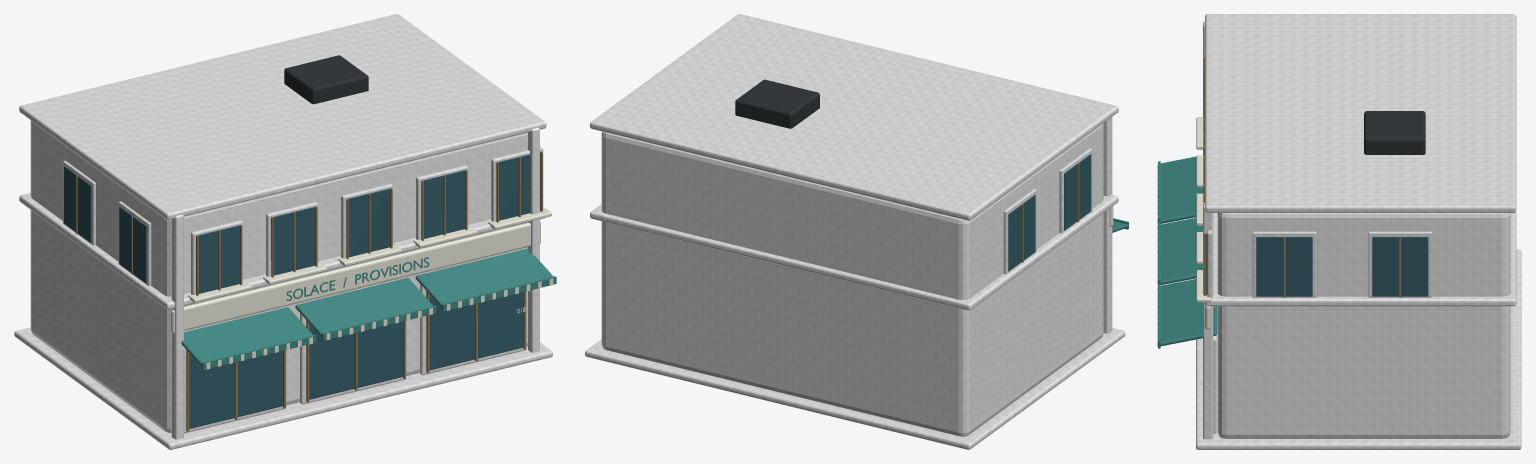
The model's file is storefront_lod1.glb.
3 renders of one model, left to right at view 1: azimuth 30°, elevation 25°; view 2: azimuth 150°, elevation 25°; view 3: azimuth 270°, elevation 25°, orthographic. The views are drawn at different scales.
Parts seen in each view (by area): view 1: storefront_body.001; view 2: storefront_body.001; view 3: storefront_body.001.
Part boxes in pixels (x1=…): storefront_body.001: x1=14, y1=14, x2=556, y2=449; storefront_body.001: x1=585, y1=14, x2=1128, y2=449; storefront_body.001: x1=1157, y1=14, x2=1521, y2=449.
Bounding box in the file's own units: 12.8 × 7.9 × 10.06.
8 materials, 3 textured.
